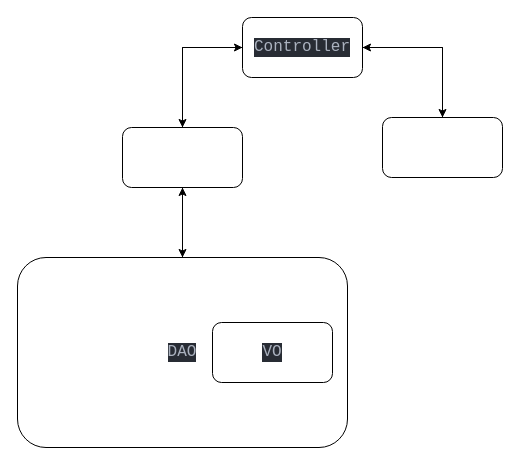
Some shapes in this 520 by 465 pixel diagram are drawn without their labels. Here are the shapes that lost their labels. From the top down, the centre of each, then its label:
At (x=182, y=157): "Service".
At (x=442, y=147): "View".
